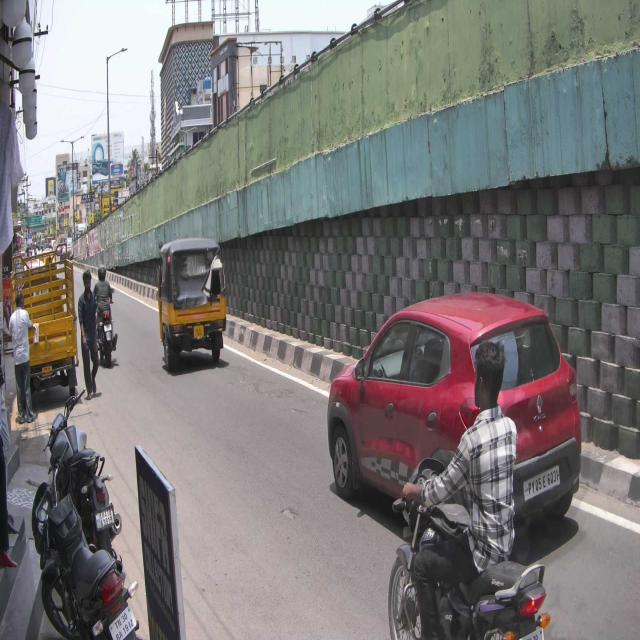single_rider: (386, 337, 552, 640)
